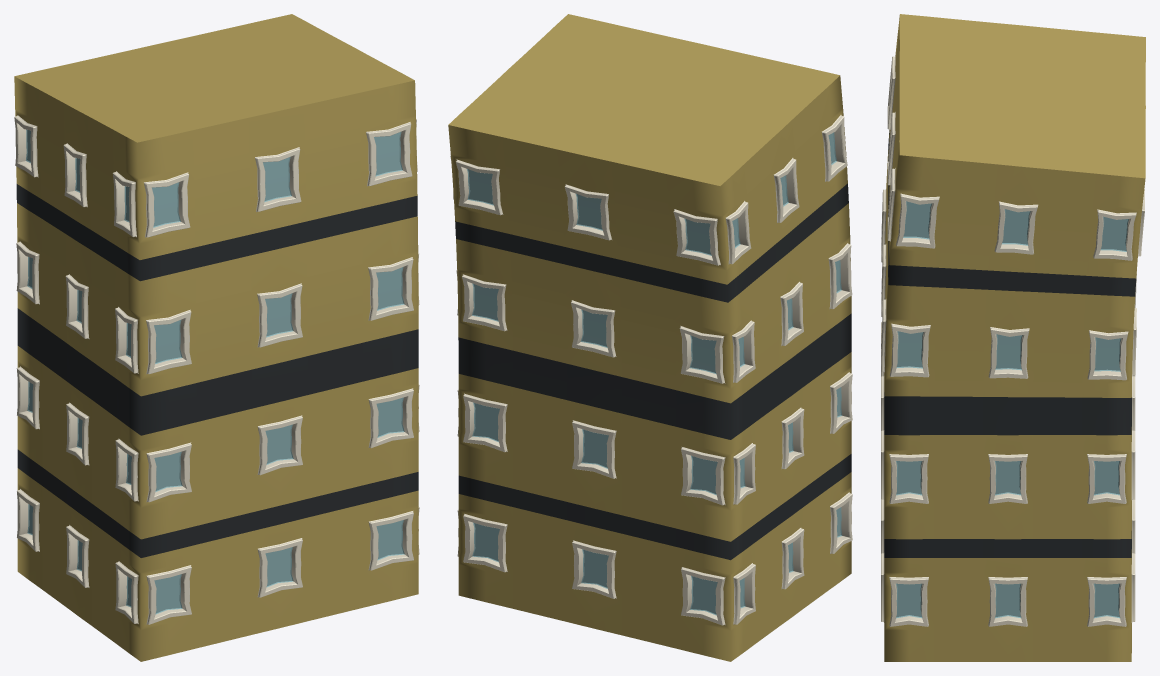
Rendered from Tentacule_Building_003.FBX.
3 renders of one model, left to right at view 1: azimuth 30°, elevation 25°; view 2: azimuth 150°, elevation 25°; view 3: azimuth 270°, elevation 25°, orthographic. The views are drawn at different scales.
Visible parts, largest first — view 1: Tentacule_Building_007; view 2: Tentacule_Building_007; view 3: Tentacule_Building_007.
Boxes of the visible parts, box(x1,y1,x2,y2) form: Tentacule_Building_007: box(14, 14, 419, 661); Tentacule_Building_007: box(448, 14, 852, 661); Tentacule_Building_007: box(881, 14, 1145, 661).
Size of the model in its own units: 225 by 382 by 178.
